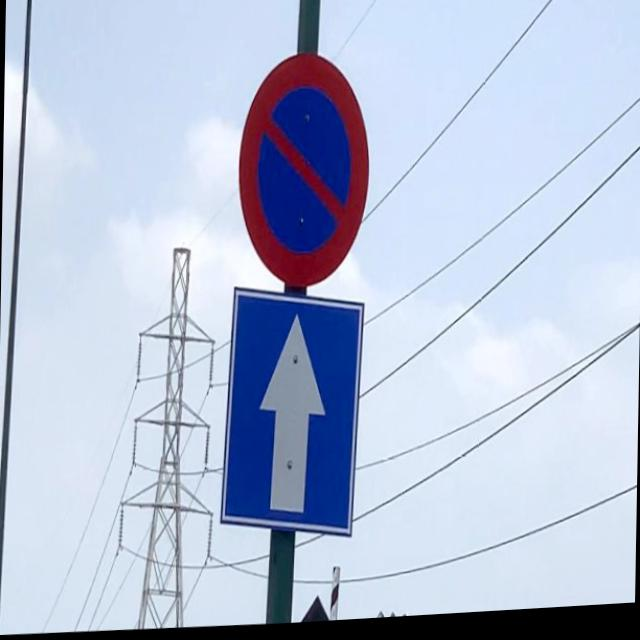Cam do xe: (236, 50, 372, 297)
Duong mot chieu: (218, 281, 366, 550)
